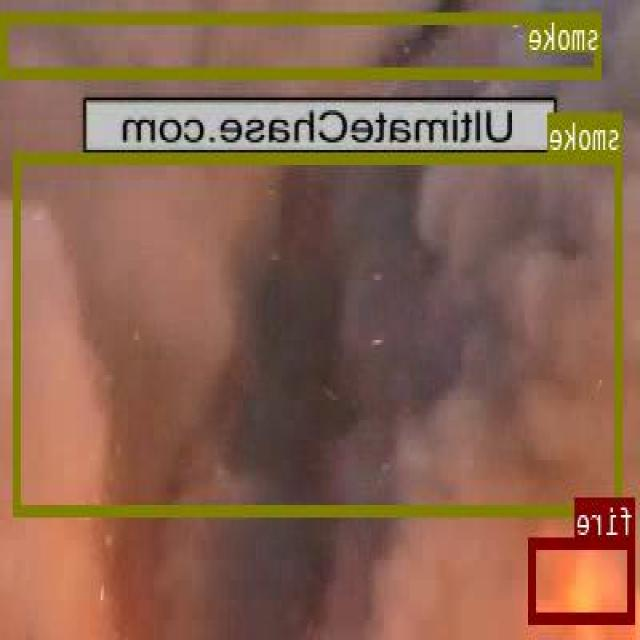fire: (530, 537, 637, 621)
smoke: (15, 150, 623, 515), (3, 12, 603, 75)
